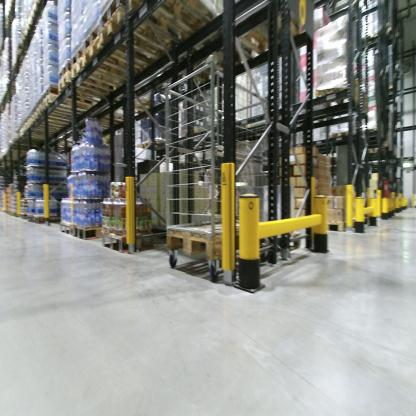pallet: (96, 7, 182, 85), (210, 2, 303, 60), (168, 220, 273, 262), (128, 0, 216, 49), (82, 34, 147, 96), (55, 67, 127, 111), (73, 56, 143, 101), (102, 227, 162, 261), (311, 82, 361, 120), (44, 97, 94, 120), (96, 1, 124, 32), (71, 220, 107, 243), (81, 27, 105, 52), (54, 55, 74, 80), (42, 84, 69, 101), (69, 45, 84, 67), (59, 217, 73, 240), (139, 138, 150, 151)
